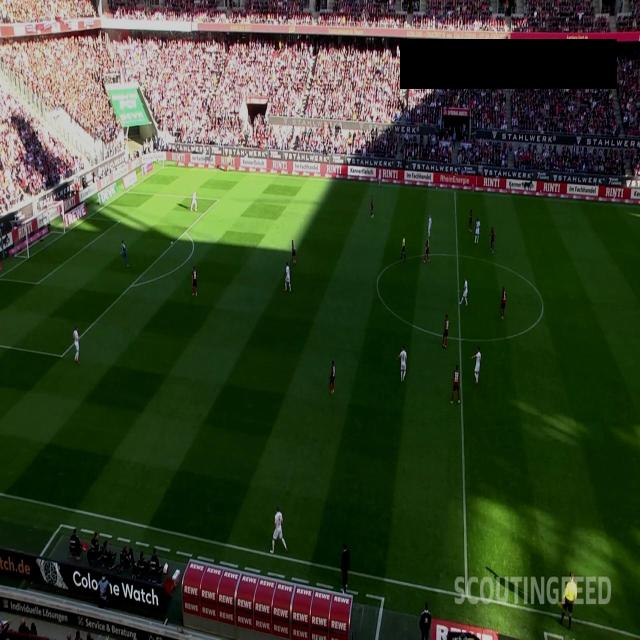ball: (170, 239, 174, 247)
goalkeeper: (120, 238, 130, 268)
player: (270, 506, 288, 554), (450, 364, 460, 404), (471, 346, 481, 386), (396, 345, 407, 381), (73, 325, 80, 364), (459, 278, 468, 306), (284, 262, 292, 292), (329, 360, 336, 394), (443, 314, 449, 348), (500, 286, 506, 320), (474, 218, 481, 244), (192, 266, 198, 296), (190, 190, 198, 212), (489, 227, 495, 253), (424, 238, 430, 262), (292, 239, 296, 265), (370, 195, 374, 218), (428, 215, 432, 238), (469, 210, 473, 232)
referee: (560, 572, 578, 630), (399, 234, 406, 262), (226, 153, 232, 172)
